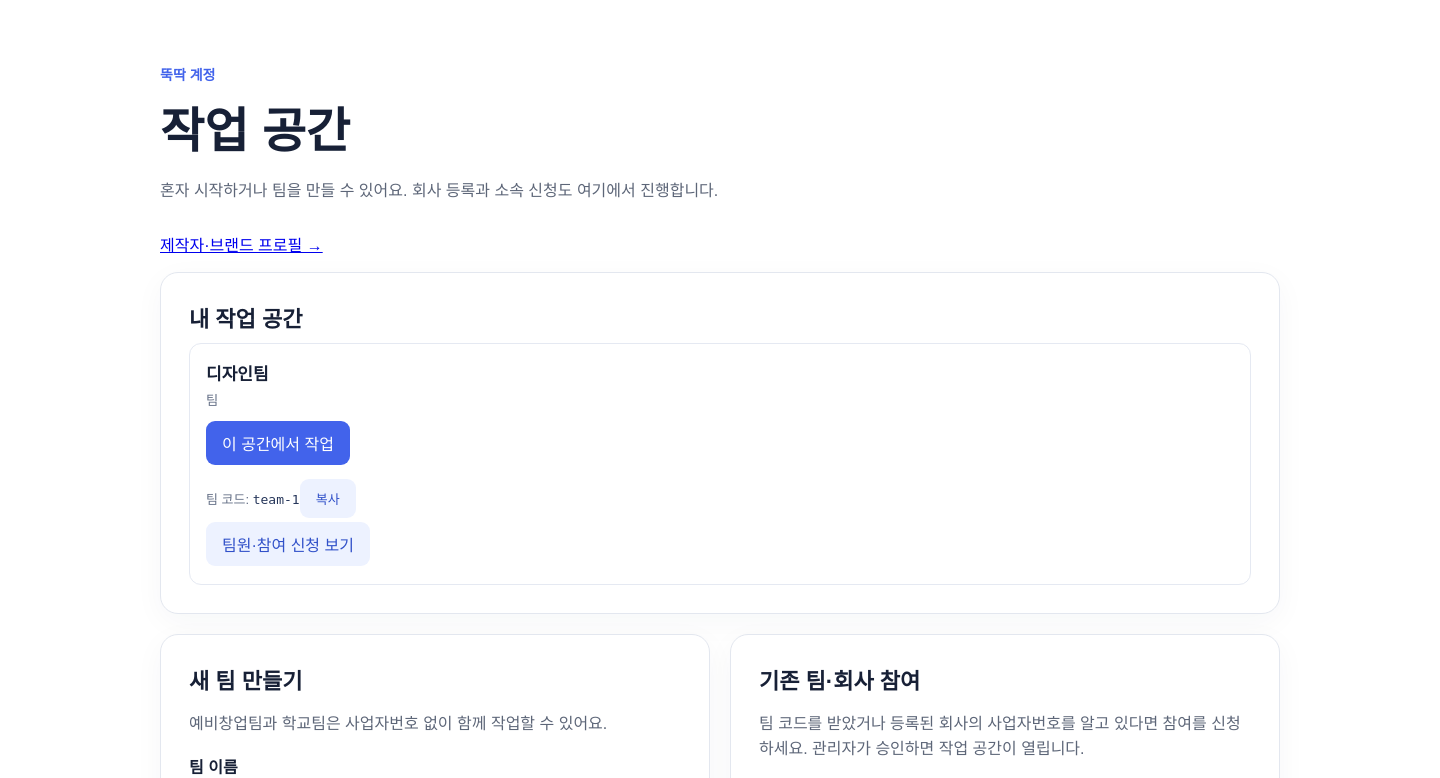
Test case: successful removal updates only that team's member list
Click the button "팀원·참여 신청 보기". click: (288, 544)
box: [206,522,370,566]
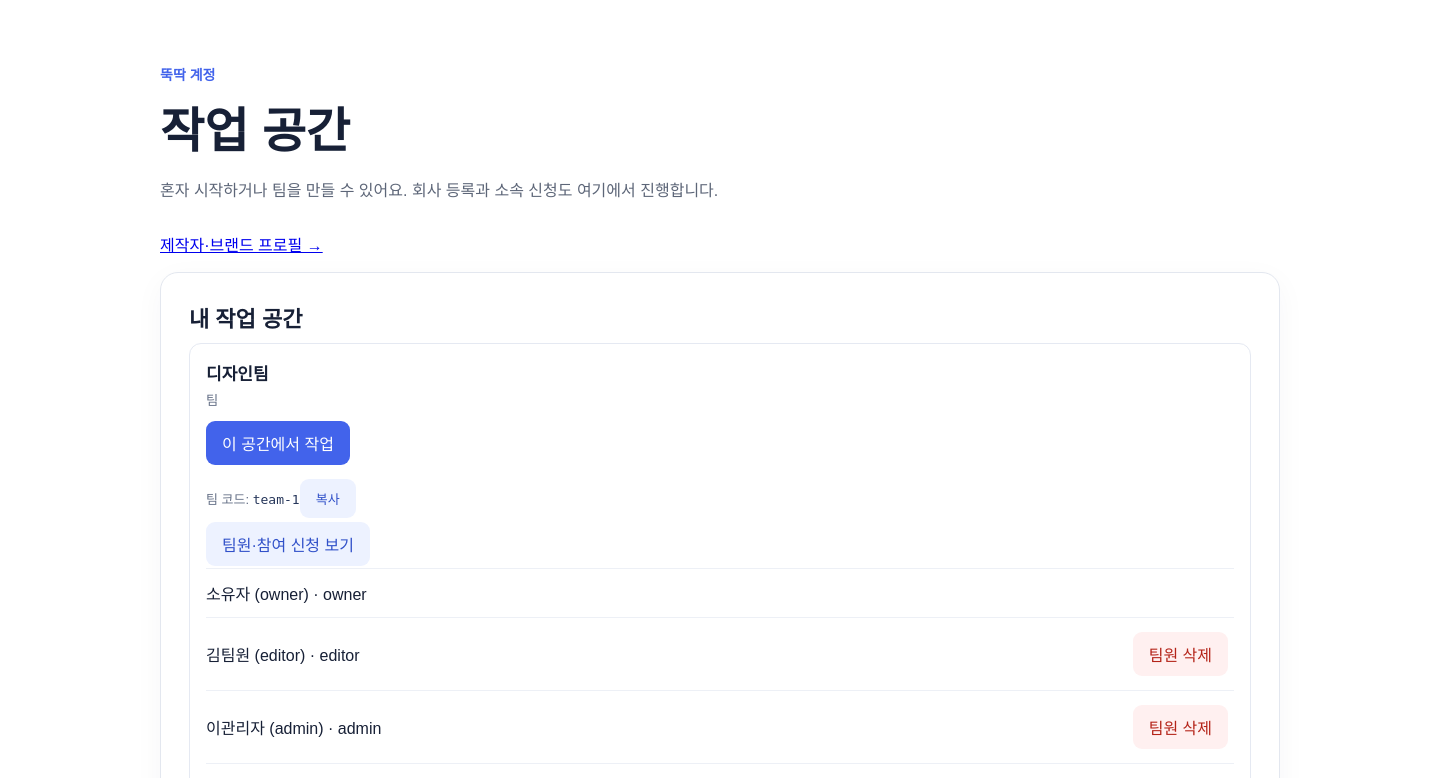
Check: the text "김팀원 (editor) · editor" is shown, box [206,642,360,666]
Click the button with aria-label "김팀원 팀원 삭제". click: (1180, 654)
box: [1133,632,1228,676]
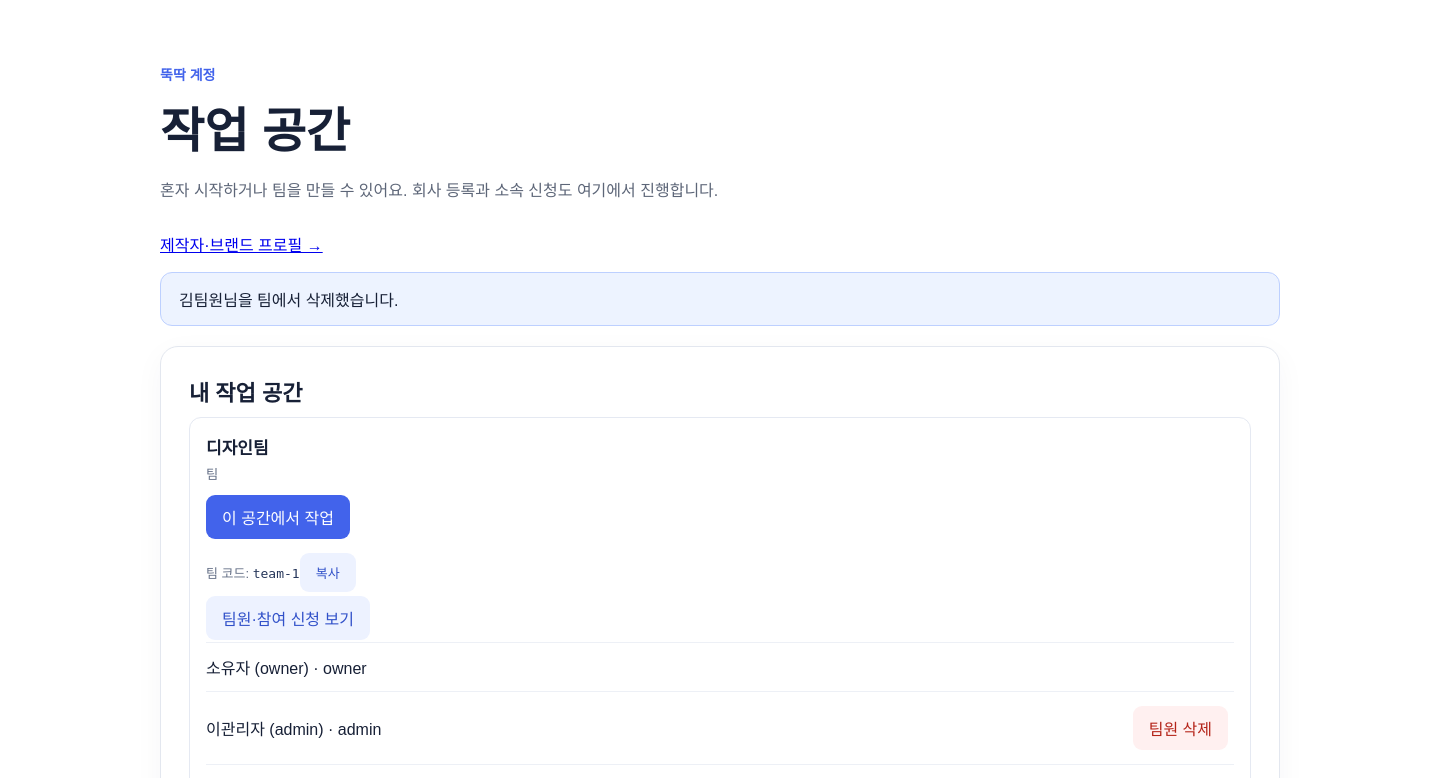
Check: the text "이관리자 (admin) · admin" is shown, box [206,716,381,740]
Check: the message reads "김팀원님을 팀에서 삭제했습니다.", box [179,292,398,309]
Check: the text "김팀원 (editor)" is gone
